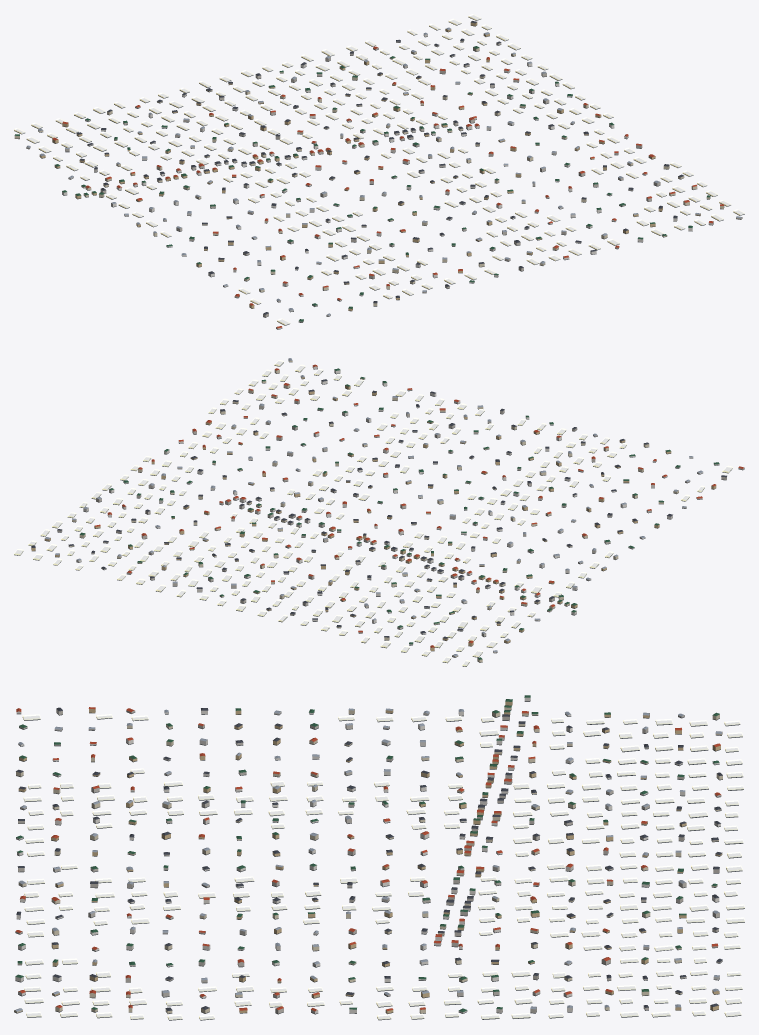
Rendered from buildings_T_E09_S04.glb.
3 renders of one model, top to bottom at view 1: azimuth 30°, elevation 25°; view 2: azimuth 150°, elevation 25°; view 3: azimuth 270°, elevation 25°, orthographic. The views are drawn at different scales.
Parts seen in each view (by area): view 1: T_E09_S04_roofs_agri_greenhouse_arch, T_E09_S04_slope_seating_foundations, T_E09_S04_walls_wall_french_ochre_villa, T_E09_S04_walls_wall_modern_warm_white, T_E09_S04_roofs_roof_slate_French_villa_hip, T_E09_S04_walls_wall_pastel_sand_gray, T_E09_S04_walls_wall_dalat_cream_stucco, T_E09_S04_roofs_roof_pine_green_hip, T_E09_S04_roofs_roof_terracotta_gable, T_E09_S04_roofs_roof_zinc_silver_gable; view 2: T_E09_S04_roofs_agri_greenhouse_arch, T_E09_S04_slope_seating_foundations, T_E09_S04_walls_wall_french_ochre_villa, T_E09_S04_walls_wall_modern_warm_white, T_E09_S04_roofs_roof_slate_French_villa_hip, T_E09_S04_walls_wall_pastel_sand_gray, T_E09_S04_walls_wall_dalat_cream_stucco, T_E09_S04_roofs_roof_pine_green_hip, T_E09_S04_roofs_roof_terracotta_gable, T_E09_S04_roofs_roof_zinc_silver_gable; view 3: T_E09_S04_roofs_agri_greenhouse_arch, T_E09_S04_slope_seating_foundations, T_E09_S04_walls_wall_french_ochre_villa, T_E09_S04_walls_wall_modern_warm_white, T_E09_S04_roofs_roof_slate_French_villa_hip, T_E09_S04_walls_wall_pastel_sand_gray, T_E09_S04_walls_wall_dalat_cream_stucco, T_E09_S04_roofs_roof_pine_green_hip, T_E09_S04_roofs_roof_terracotta_gable, T_E09_S04_roofs_roof_zinc_silver_gable.
Boxes of the visible parts, x1=… form: T_E09_S04_roofs_agri_greenhouse_arch: x1=14, y1=14, x2=744, y2=325; T_E09_S04_slope_seating_foundations: x1=14, y1=16, x2=744, y2=329; T_E09_S04_walls_wall_french_ochre_villa: x1=39, y1=22, x2=700, y2=310; T_E09_S04_walls_wall_modern_warm_white: x1=62, y1=34, x2=713, y2=329; T_E09_S04_roofs_roof_slate_French_villa_hip: x1=77, y1=21, x2=683, y2=314; T_E09_S04_walls_wall_pastel_sand_gray: x1=26, y1=41, x2=660, y2=322; T_E09_S04_walls_wall_dalat_cream_stucco: x1=14, y1=40, x2=742, y2=305; T_E09_S04_roofs_roof_pine_green_hip: x1=14, y1=46, x2=710, y2=321; T_E09_S04_roofs_roof_terracotta_gable: x1=52, y1=46, x2=723, y2=328; T_E09_S04_roofs_roof_zinc_silver_gable: x1=26, y1=27, x2=742, y2=315; T_E09_S04_roofs_agri_greenhouse_arch: x1=14, y1=360, x2=732, y2=666; T_E09_S04_slope_seating_foundations: x1=14, y1=361, x2=744, y2=666; T_E09_S04_walls_wall_french_ochre_villa: x1=31, y1=376, x2=716, y2=650; T_E09_S04_walls_wall_modern_warm_white: x1=76, y1=366, x2=744, y2=645; T_E09_S04_roofs_roof_slate_French_villa_hip: x1=31, y1=379, x2=726, y2=638; T_E09_S04_walls_wall_pastel_sand_gray: x1=57, y1=389, x2=726, y2=652; T_E09_S04_walls_wall_dalat_cream_stucco: x1=68, y1=359, x2=678, y2=662; T_E09_S04_roofs_roof_pine_green_hip: x1=80, y1=368, x2=719, y2=659; T_E09_S04_roofs_roof_terracotta_gable: x1=95, y1=364, x2=743, y2=647; T_E09_S04_roofs_roof_zinc_silver_gable: x1=45, y1=358, x2=702, y2=656; T_E09_S04_roofs_agri_greenhouse_arch: x1=22, y1=714, x2=744, y2=1019; T_E09_S04_slope_seating_foundations: x1=14, y1=700, x2=744, y2=1020; T_E09_S04_walls_wall_french_ochre_villa: x1=18, y1=701, x2=722, y2=1013; T_E09_S04_walls_wall_modern_warm_white: x1=15, y1=697, x2=720, y2=1013; T_E09_S04_roofs_roof_slate_French_villa_hip: x1=16, y1=707, x2=722, y2=1010; T_E09_S04_walls_wall_pastel_sand_gray: x1=15, y1=709, x2=722, y2=1013; T_E09_S04_walls_wall_dalat_cream_stucco: x1=14, y1=707, x2=722, y2=1013; T_E09_S04_roofs_roof_pine_green_hip: x1=15, y1=695, x2=719, y2=1012; T_E09_S04_roofs_roof_terracotta_gable: x1=15, y1=707, x2=721, y2=1011; T_E09_S04_roofs_roof_zinc_silver_gable: x1=15, y1=708, x2=722, y2=1011.
Bounding box in the file's own units: 1813 × 29.83 × 1755.
